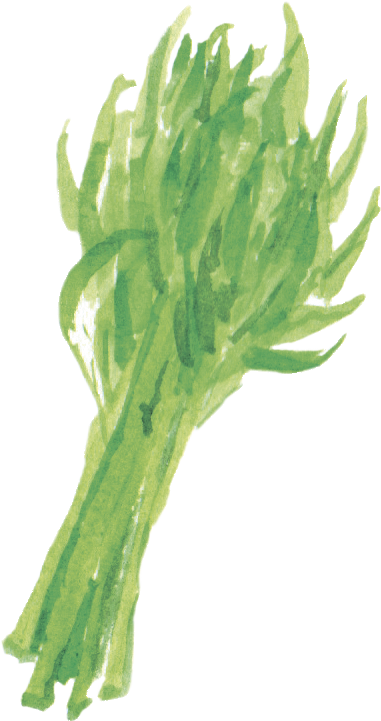Kangkung: (23, 77, 381, 714)
